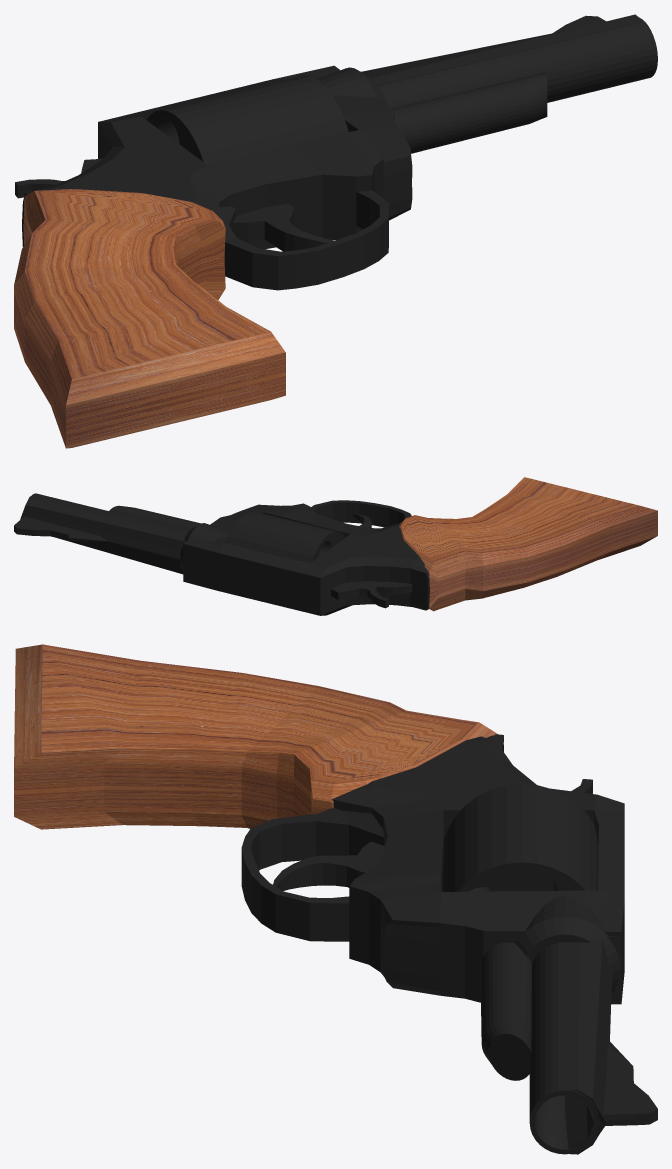
The model's file is Revolver.fbx.
3 views of the same model, one above another, from view 1: azimuth 30°, elevation 25°; view 2: azimuth 150°, elevation 25°; view 3: azimuth 270°, elevation 25° (orthographic). The views are drawn at different scales.
Parts seen in each view (by area): view 1: RevolverBody, Mag, Trigger, Hammer; view 2: RevolverBody, Mag, Hammer; view 3: RevolverBody, Mag, Trigger.
Part boxes in pixels (<box>): RevolverBody: <box>14,14,657,448</box>; Mag: <box>146,75,348,165</box>; Trigger: <box>233,204,334,251</box>; Hammer: <box>15,158,102,198</box>; RevolverBody: <box>14,477,657,615</box>; Mag: <box>227,511,345,562</box>; Hammer: <box>331,581,412,608</box>; RevolverBody: <box>14,644,657,1154</box>; Mag: <box>442,784,598,891</box>; Trigger: <box>273,841,384,890</box>.
Bounding box in the file's own units: 302 × 45.7 × 183.
